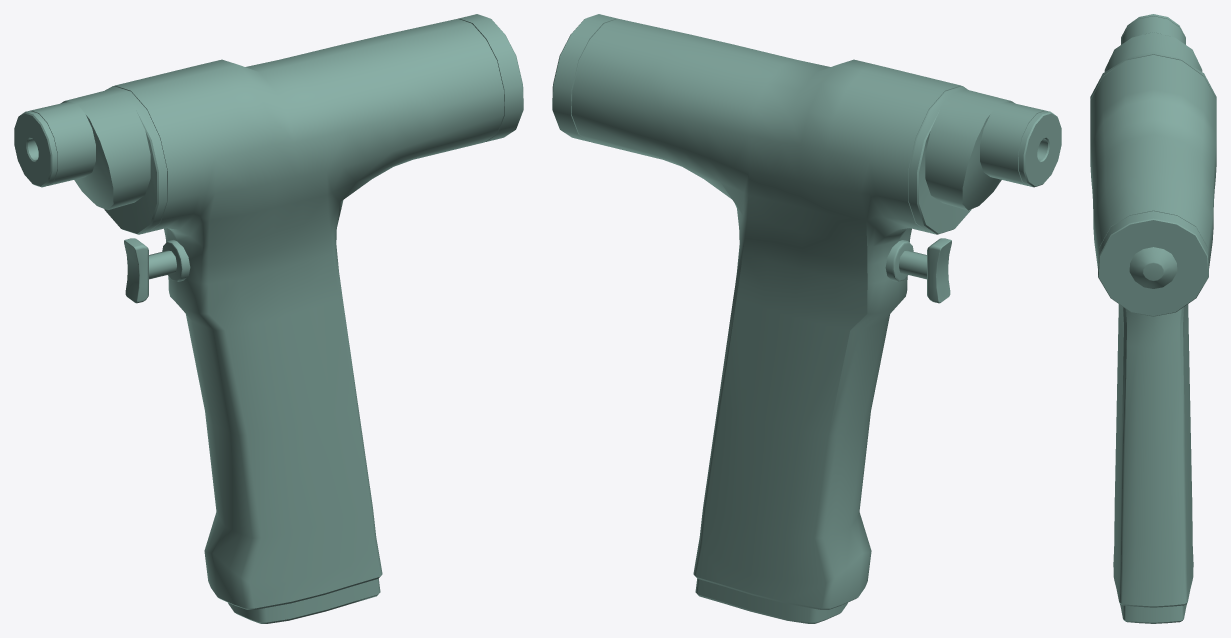
File: Tools_CannulatedDrill_01.fbx
3 renders of one model, left to right at view 1: azimuth 30°, elevation 25°; view 2: azimuth 150°, elevation 25°; view 3: azimuth 270°, elevation 25°, orthographic. The views are drawn at different scales.
Parts seen in each view (by area): view 1: Tools_CannulatedDrill_01:Tools_CannulatedDrill_Base_01, Tools_CannulatedDrill_01:Tools_CannulatedDrill_Trigger_01; view 2: Tools_CannulatedDrill_01:Tools_CannulatedDrill_Base_01, Tools_CannulatedDrill_01:Tools_CannulatedDrill_Trigger_01; view 3: Tools_CannulatedDrill_01:Tools_CannulatedDrill_Base_01.
Part boxes in pixels (x1,y1,x2,y2): Tools_CannulatedDrill_01:Tools_CannulatedDrill_Base_01: (14, 14, 523, 623); Tools_CannulatedDrill_01:Tools_CannulatedDrill_Trigger_01: (124, 238, 176, 303); Tools_CannulatedDrill_01:Tools_CannulatedDrill_Base_01: (552, 14, 1061, 623); Tools_CannulatedDrill_01:Tools_CannulatedDrill_Trigger_01: (899, 238, 951, 303); Tools_CannulatedDrill_01:Tools_CannulatedDrill_Base_01: (1090, 14, 1216, 623).
Size of the model in its own units: 10.69 by 11.96 by 2.9.
